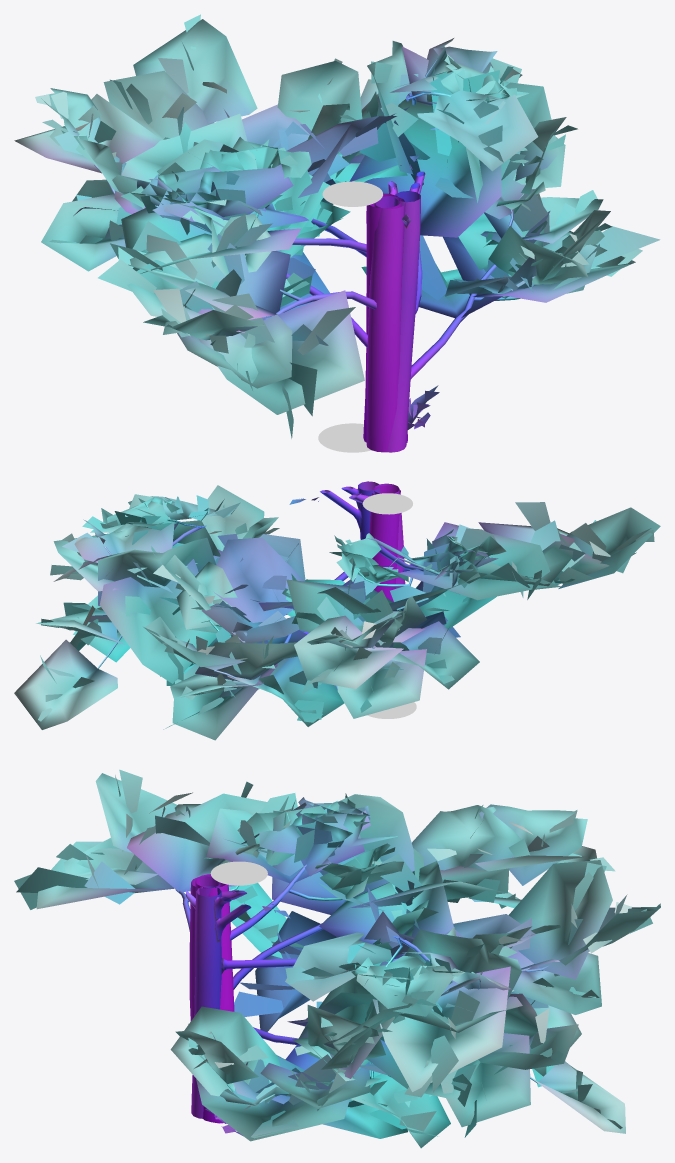
The model's file is LOGS_Pine.fbx.
3 views of the same model, one above another, from view 1: azimuth 30°, elevation 25°; view 2: azimuth 150°, elevation 25°; view 3: azimuth 270°, elevation 25° (orthographic). The views are drawn at different scales.
Visible parts, largest first — view 1: Log3_LOD0, Log2_LOD0, Log1_Caps_LOD0, Log1_LOD0, Log2_Caps_LOD0; view 2: Log3_LOD0, Log1_LOD0, Log1_Caps_LOD0, Log2_LOD0, Log2_Caps_LOD0; view 3: Log3_LOD0, Log1_LOD0, Log2_LOD0, Log1_Caps_LOD0.
Part boxes in pixels (bbox=[...]): Log3_LOD0: bbox=[14, 14, 660, 452]; Log2_LOD0: bbox=[366, 155, 420, 452]; Log1_Caps_LOD0: bbox=[318, 181, 382, 452]; Log1_LOD0: bbox=[363, 193, 407, 442]; Log2_Caps_LOD0: bbox=[323, 183, 377, 450]; Log3_LOD0: bbox=[14, 481, 660, 740]; Log1_LOD0: bbox=[369, 485, 400, 601]; Log1_Caps_LOD0: bbox=[362, 493, 416, 718]; Log2_LOD0: bbox=[289, 483, 405, 588]; Log2_Caps_LOD0: bbox=[367, 494, 412, 717]; Log3_LOD0: bbox=[14, 769, 660, 1148]; Log1_LOD0: bbox=[195, 874, 234, 1123]; Log2_LOD0: bbox=[189, 876, 290, 1021]; Log1_Caps_LOD0: bbox=[210, 861, 267, 885].
Size of what is drawn, in the model's own units: 647 by 265 by 675.
